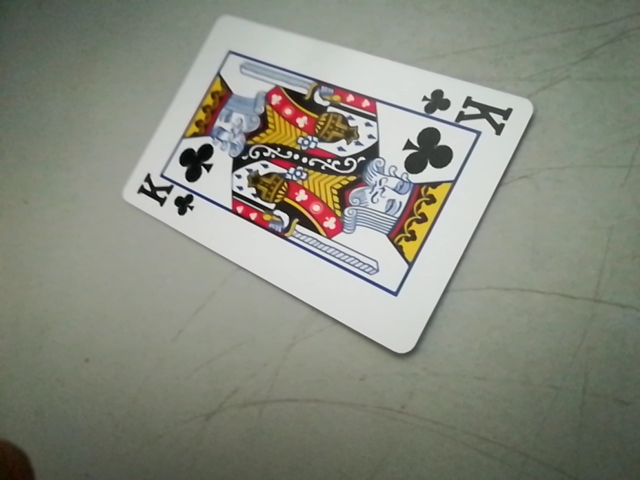mh k: (411, 87, 517, 129), (131, 178, 204, 221)
